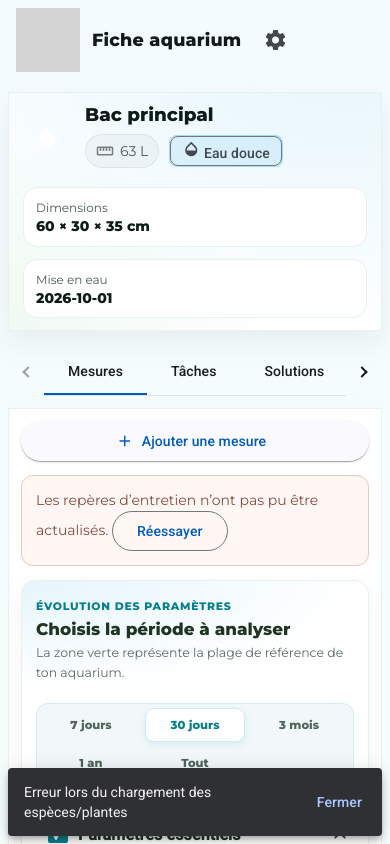
it: Parcours Classic : continuité et erreurs › ne confond pas une panne des tâches avec Tout est à jour
Step 1. Click the tab "Tâches" → (194,371), box [171,363,217,379]
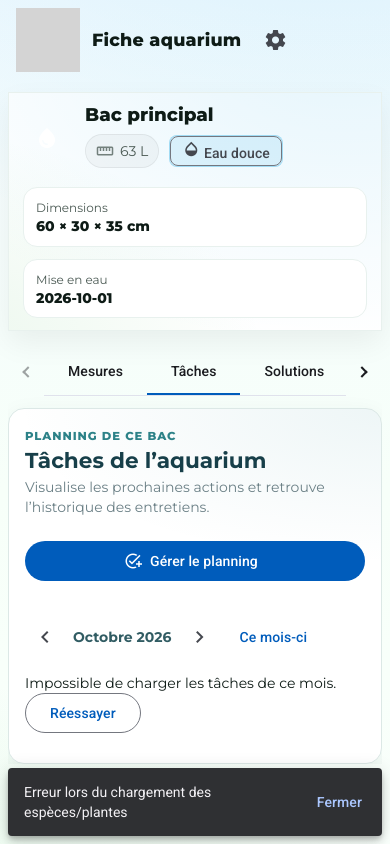
Now the message "Impossible de charger les tâches de ce mois. Réessayer" is shown, box [25,673,365,733]
Step 2. Scroll
Step 3. Click the button "Réessayer" → (83,713), box [25,693,141,733]
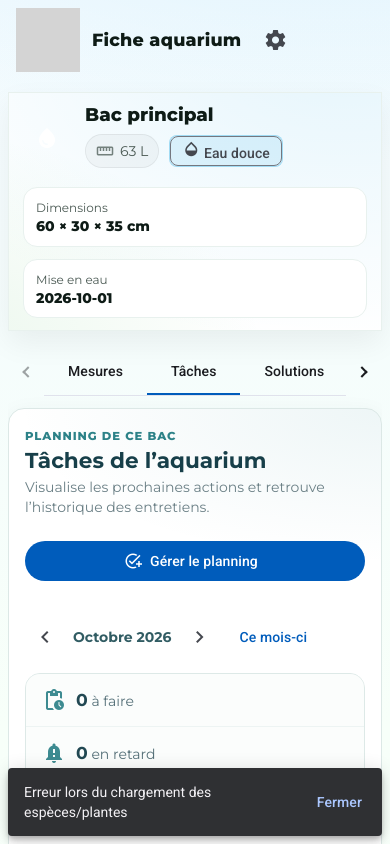
Now the element that starts with "Planning de ce bac" shows "Tout est à jour", box [8,408,382,843]
